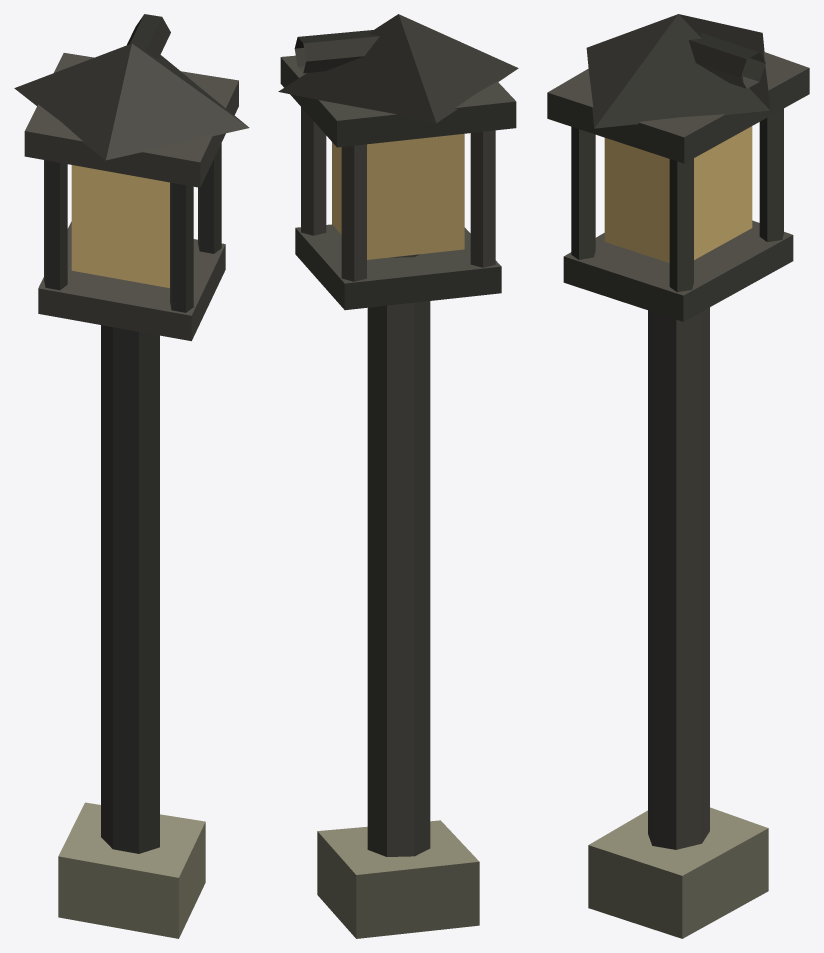
3 renders of one model, left to right at view 1: azimuth 30°, elevation 25°; view 2: azimuth 150°, elevation 25°; view 3: azimuth 270°, elevation 25°, orthographic. The views are drawn at different scales.
Visible parts, largest first — view 1: fb161fe789c0c4efb9c877fe2fe2a30e3fc46174e78388e15da52d479d6c; view 2: fb161fe789c0c4efb9c877fe2fe2a30e3fc46174e78388e15da52d479d6c; view 3: fb161fe789c0c4efb9c877fe2fe2a30e3fc46174e78388e15da52d479d6c.
Part boxes in pixels (x1,y1,x2,y2): fb161fe789c0c4efb9c877fe2fe2a30e3fc46174e78388e15da52d479d6c: (14, 14, 249, 938); fb161fe789c0c4efb9c877fe2fe2a30e3fc46174e78388e15da52d479d6c: (278, 14, 518, 938); fb161fe789c0c4efb9c877fe2fe2a30e3fc46174e78388e15da52d479d6c: (547, 14, 809, 938).
Bounding box in the file's own units: 0.9042 × 3.4 × 0.9043.
2 materials, 1 textured.
